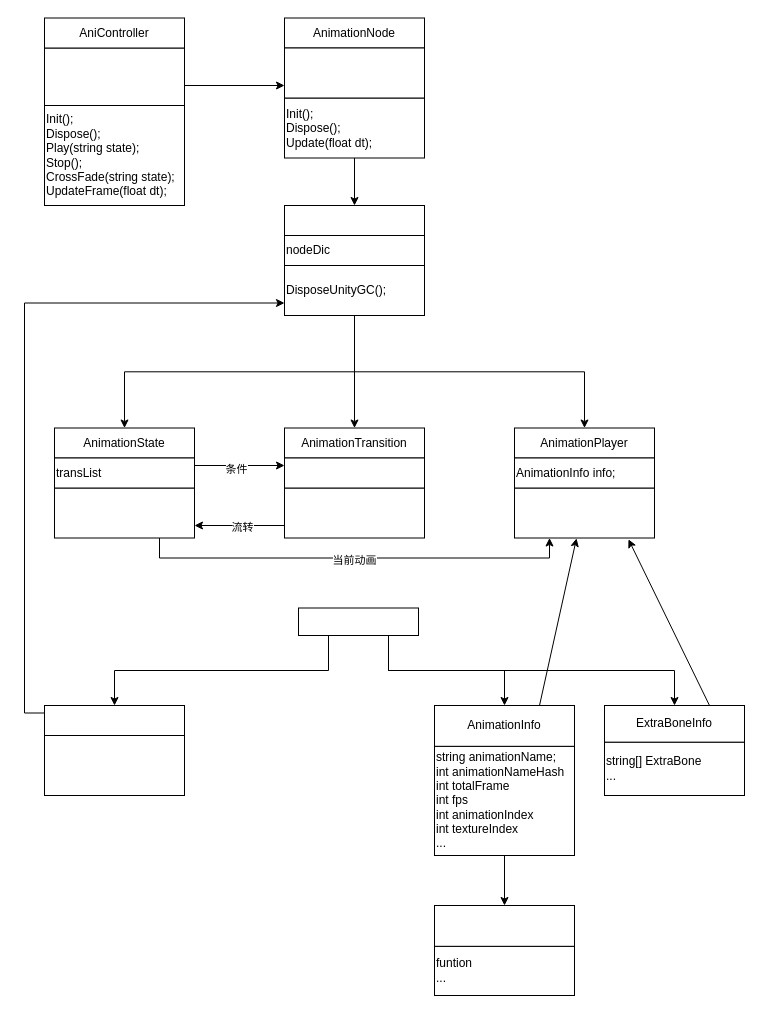
Image size: 762x1013. Some labels were removed from this diagram. The centre of each missing label's shape, as x and y in pixels:
"AnimationEvent" belongs at point 504,925.
"AnimationStateInfo" belongs at point 114,720.
"AnimationStateMachine" belongs at point 354,220.
"children parent" belongs at point 354,72.
"curStateMachine" belongs at point 114,76.
"Data" belongs at point 358,621.
